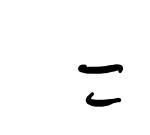eqv: (78, 64, 123, 107)
